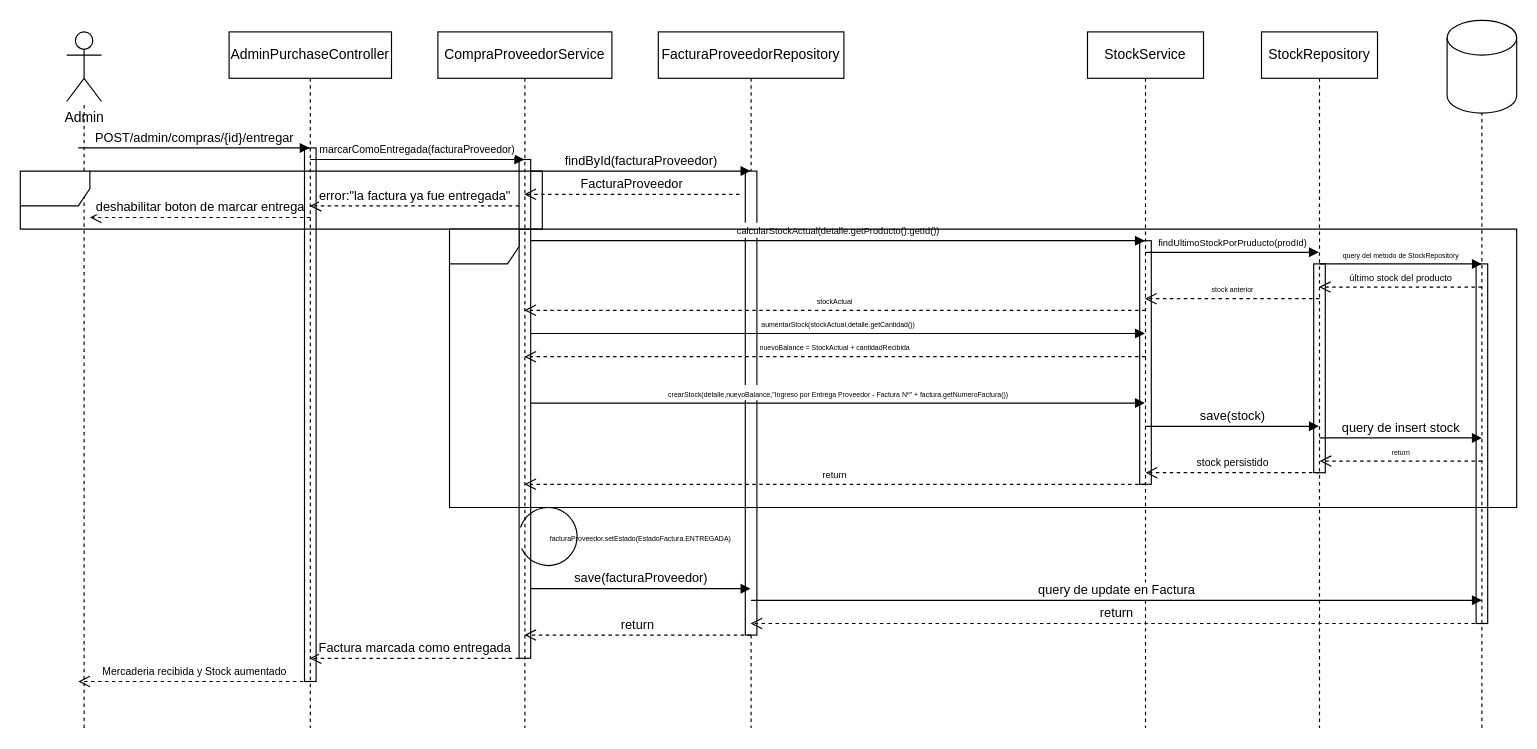
Image size: 1537x749. Some labels were removed from this diagram. The box of each missing label's shape, as (x1, y1, x2, y2) in pixels:
factura ya entregada: (19, 170, 542, 229)
loop: (448, 228, 1517, 507)
MySQL: (1446, 19, 1517, 113)
